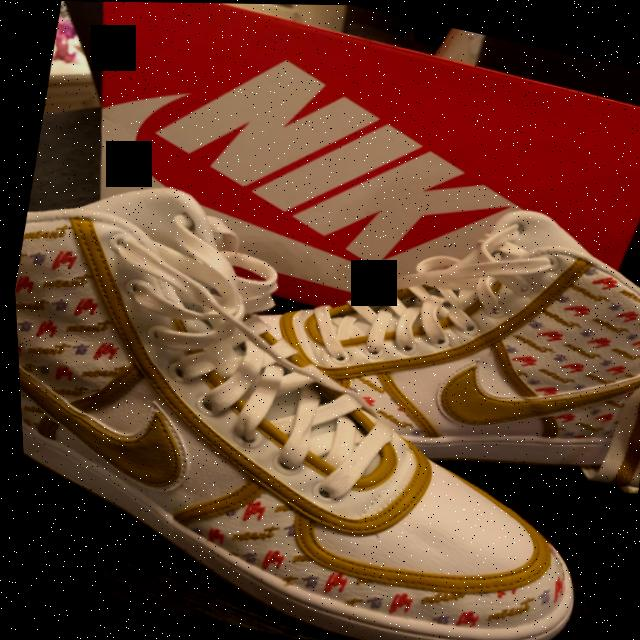shoes: (6, 158, 640, 640), (245, 159, 640, 497)
